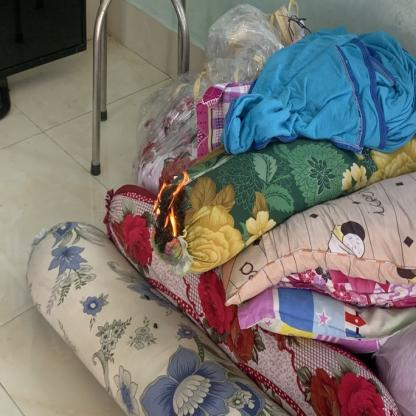fire: (147, 174, 192, 258)
